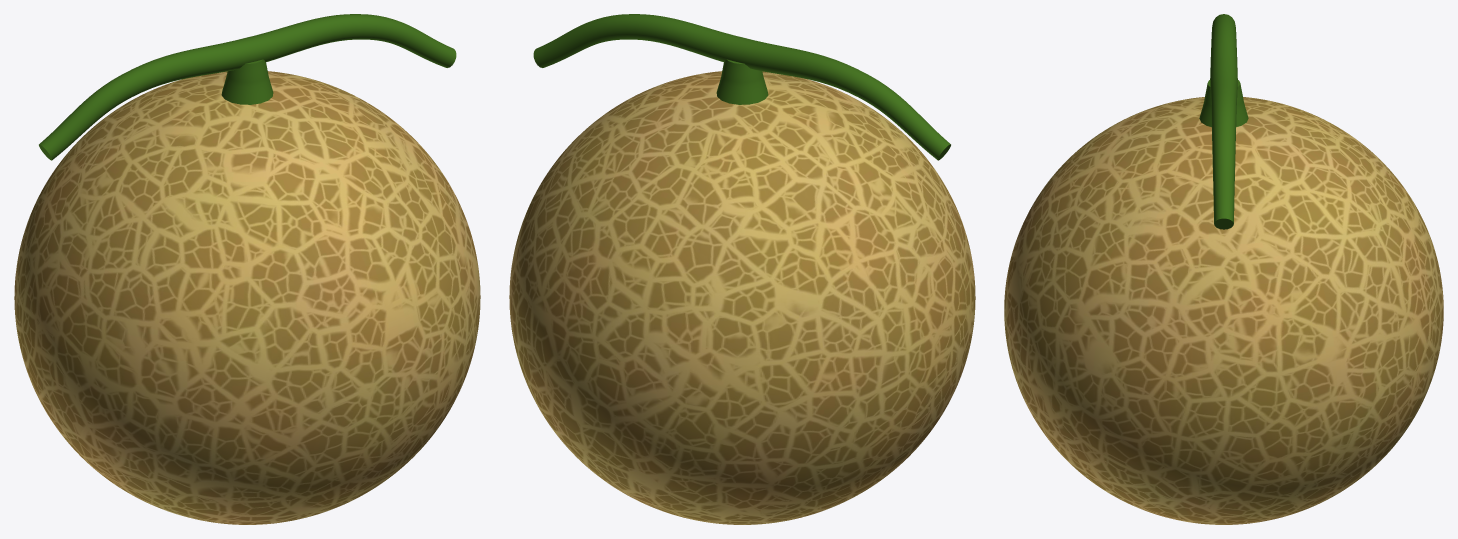
Rendered from melon.glb.
The picture shows the model from 3 angles, left to right: view 1: azimuth 30°, elevation 25°; view 2: azimuth 150°, elevation 25°; view 3: azimuth 270°, elevation 25°; orthographic projection. The views are drawn at different scales.
Visible parts, largest first — view 1: Melon, Stem; view 2: Melon, Stem; view 3: Melon, Stem.
Part boxes in pixels (box(x1,y1,x2,y2)): Melon: box(14, 71, 480, 524); Stem: box(39, 14, 456, 160); Melon: box(509, 71, 975, 524); Stem: box(533, 14, 950, 160); Melon: box(1004, 97, 1443, 524); Stem: box(1199, 14, 1248, 229).
Bounding box in the file's own units: 2.04 × 2.2 × 2.
2 materials, 1 textured.
